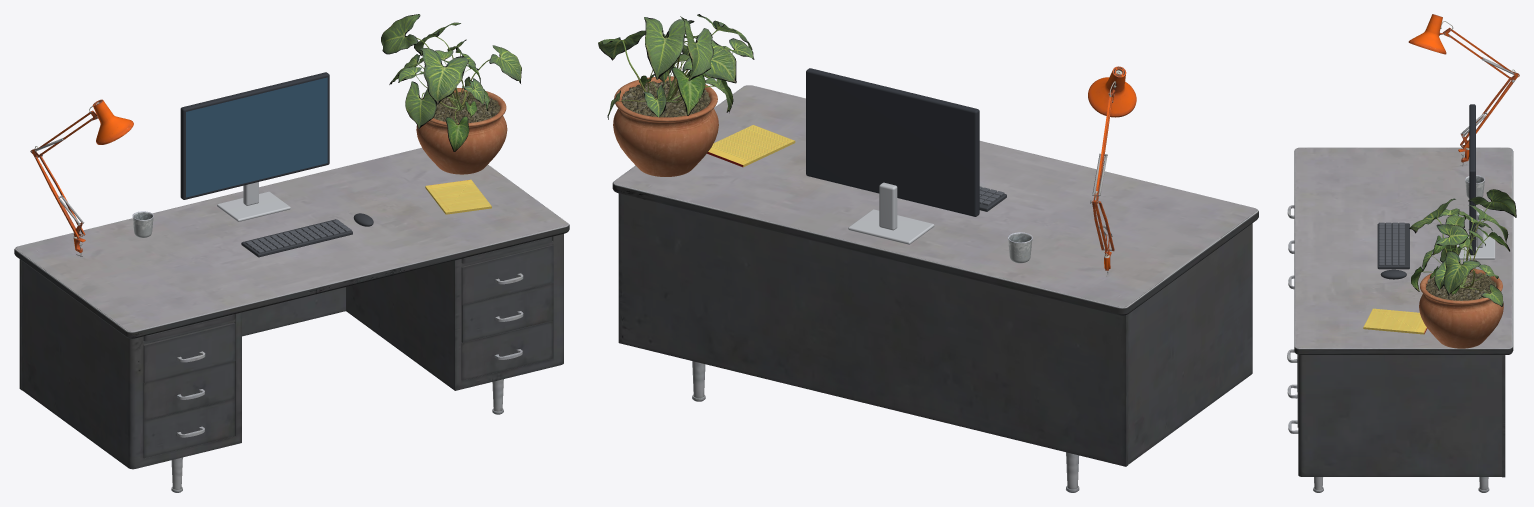
3 renders of one model, left to right at view 1: azimuth 30°, elevation 25°; view 2: azimuth 150°, elevation 25°; view 3: azimuth 270°, elevation 25°, orthographic. The views are drawn at different scales.
Visible parts, largest first — view 1: metal_office_desk, ecran_moniteur, potted_plant_02_leaves, potted_plant_02_pot, metal_office_desk_drawer_04, metal_office_desk_drawer_01, metal_office_desk_drawer_02, metal_office_desk_drawer_03, metal_office_desk_drawer_06, metal_office_desk_drawer_05, desk_lamp_arm_01, coque (+6 smaller); view 2: metal_office_desk, coque, potted_plant_02_leaves, potted_plant_02_pot, desk_lamp_arm_01, office_notepads_yellow_pad, potted_plant_02_dirt, socle, pied; view 3: metal_office_desk, potted_plant_02_leaves, potted_plant_02_pot, desk_lamp_arm_01, office_notepads_yellow_pad, touche, potted_plant_02_dirt, coque, base, socle, stationery_supplies_pencilcup.
Boxes of the visible parts, x1,y1,x2,y2 form: metal_office_desk: (14,147,569,492); ecran_moniteur: (186,77,327,197); potted_plant_02_leaves: (381,14,521,151); potted_plant_02_pot: (416,88,507,174); metal_office_desk_drawer_04: (143,322,235,382); metal_office_desk_drawer_01: (461,245,553,304); metal_office_desk_drawer_02: (461,283,553,342); metal_office_desk_drawer_03: (461,321,552,380); metal_office_desk_drawer_06: (143,398,234,458); metal_office_desk_drawer_05: (143,361,234,420); desk_lamp_arm_01: (30,99,133,256); coque: (180,72,329,199); metal_office_desk: (612,85,1258,492); coque: (806,68,979,216); potted_plant_02_leaves: (598,14,754,119); potted_plant_02_pot: (613,76,718,176); desk_lamp_arm_01: (1088,66,1136,276); office_notepads_yellow_pad: (707,125,795,167); potted_plant_02_dirt: (621,80,710,117); socle: (848,209,934,244); pied: (879,182,897,230); metal_office_desk: (1294,147,1513,492); potted_plant_02_leaves: (1409,189,1516,306); potted_plant_02_pot: (1419,268,1503,348); desk_lamp_arm_01: (1408,14,1519,166); office_notepads_yellow_pad: (1363,308,1427,334); touche: (1379,222,1404,265); potted_plant_02_dirt: (1426,271,1496,300); coque: (1469,104,1475,255); base: (1377,223,1409,269); socle: (1457,233,1495,259); stationery_supplies_pencilcup: (1465,175,1484,198).
Bounding box in the file's own units: 2.17 × 1.5 × 0.9752.
12 materials, 7 textured.
